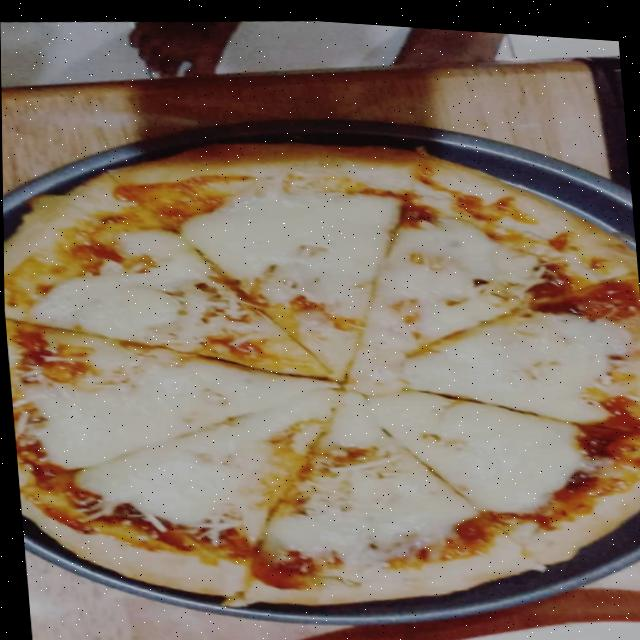pizza: (1, 99, 640, 640)
